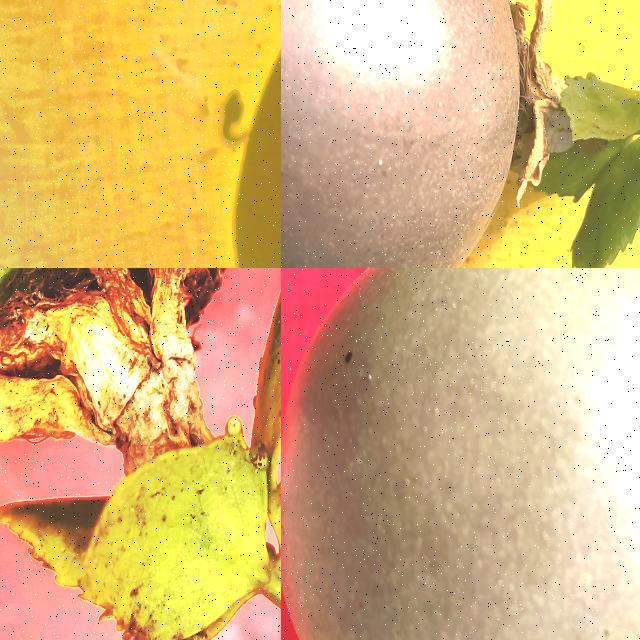Estado-1: (281, 268, 640, 640)
Estado-4: (281, 0, 640, 268)
